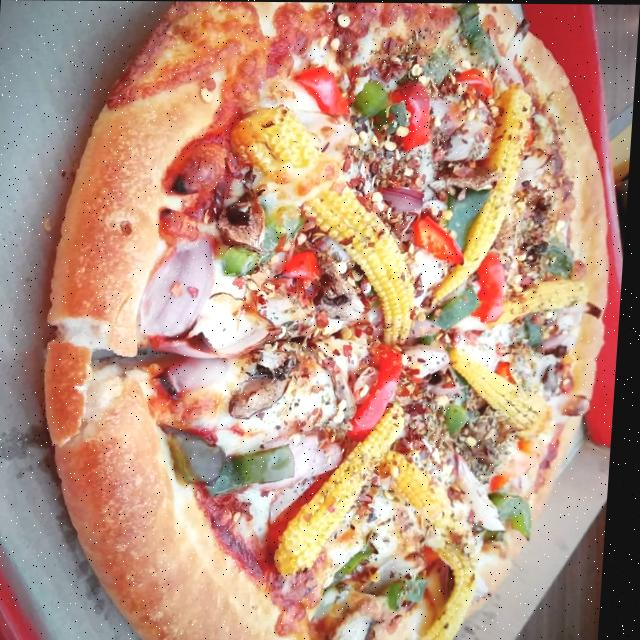mushrooms: (231, 367, 296, 422), (218, 193, 270, 253), (320, 280, 370, 323), (337, 604, 386, 640), (428, 171, 505, 190)
pizza: (27, 0, 631, 640)
